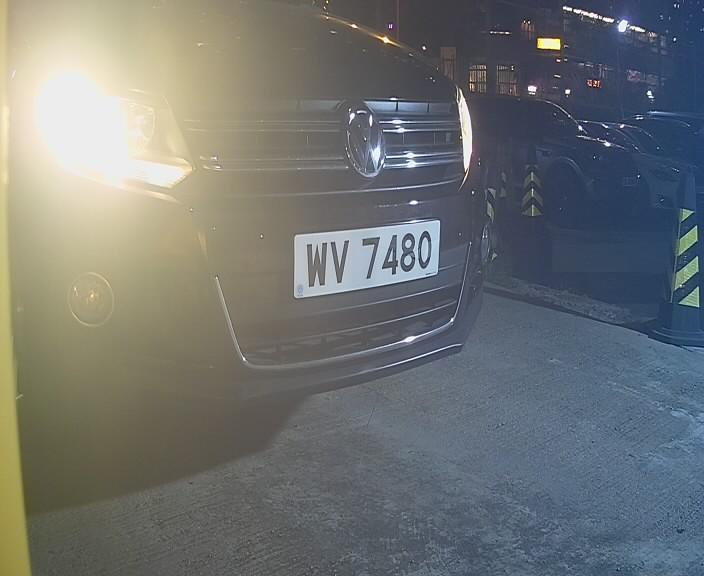License Plate: (283, 206, 447, 304)
